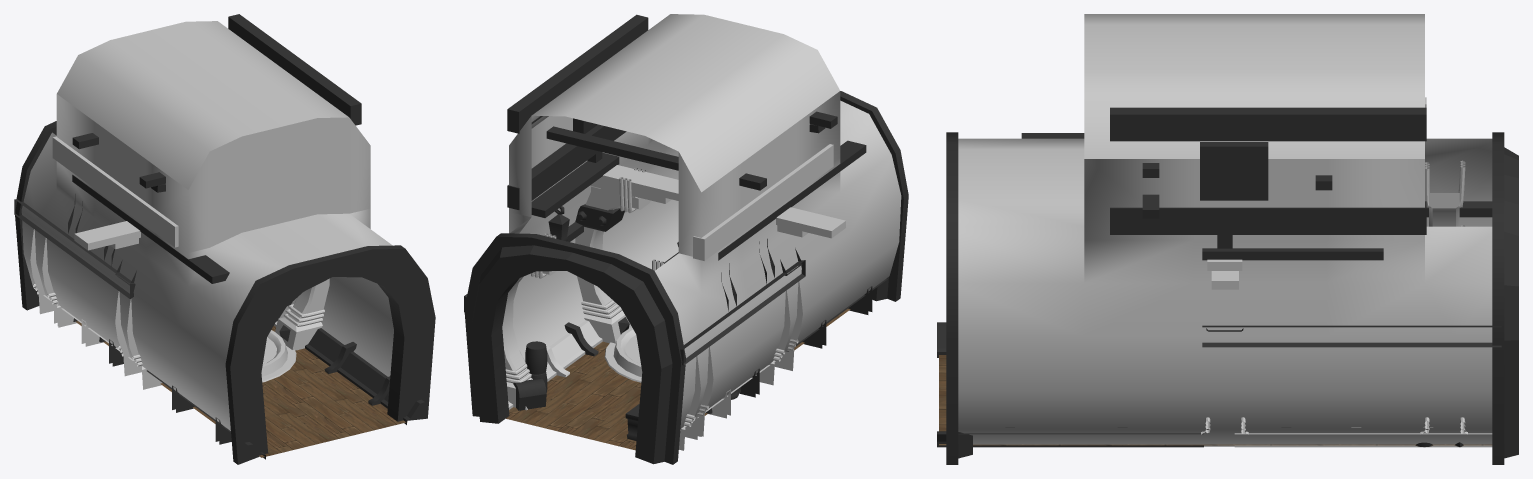
Rendered from br_env_A.FBX.
3 renders of one model, left to right at view 1: azimuth 30°, elevation 25°; view 2: azimuth 150°, elevation 25°; view 3: azimuth 270°, elevation 25°, orthographic. The views are drawn at different scales.
Parts seen in each view (by area): view 1: Group58866, Object133, Object132, Box303, Box323, Box302, Box298, Group58869, Box241, Box322, Box278, Box290 (+5 smaller); view 2: Group58866, Object133, Object132, Box303, Box323, Box302, Group58869, Box241, Box300, Box291, Box320, Box346 (+12 smaller); view 3: Group58866, Object133, Object132, Box302, Box300, Box301, Box322, Box320, Box298, Box303, Box280, Box346.
Boxes of the visible parts, left/top/right/bottom form: Group58866: left=15, top=121, right=435, bottom=464; Object133: left=57, top=21, right=348, bottom=189; Object132: left=56, top=94, right=370, bottom=252; Box303: left=76, top=321, right=407, bottom=457; Box323: left=52, top=136, right=178, bottom=247; Box302: left=228, top=14, right=361, bottom=125; Box298: left=146, top=328, right=424, bottom=459; Group58869: left=38, top=260, right=322, bottom=389; Box241: left=115, top=278, right=329, bottom=366; Box322: left=14, top=199, right=135, bottom=298; Box278: left=74, top=221, right=140, bottom=250; Box290: left=142, top=226, right=229, bottom=283; Group58866: left=464, top=91, right=908, bottom=464; Object133: left=531, top=14, right=840, bottom=192; Object132: left=509, top=91, right=840, bottom=256; Box303: left=506, top=308, right=850, bottom=450; Box323: left=693, top=144, right=833, bottom=260; Box302: left=507, top=14, right=648, bottom=133; Group58869: left=506, top=204, right=802, bottom=450; Box241: left=575, top=186, right=802, bottom=358; Box300: left=507, top=124, right=626, bottom=209; Box291: left=546, top=126, right=766, bottom=190; Box320: left=531, top=152, right=619, bottom=217; Box346: left=502, top=271, right=713, bottom=423; Group58866: left=946, top=132, right=1518, bottom=464; Object133: left=1084, top=14, right=1424, bottom=158; Object132: left=1084, top=159, right=1424, bottom=240; Box302: left=1110, top=107, right=1426, bottom=141; Box300: left=1110, top=201, right=1426, bottom=234; Box301: left=1200, top=142, right=1268, bottom=200; Box322: left=1202, top=201, right=1501, bottom=347; Box320: left=1202, top=248, right=1383, bottom=260; Box298: left=937, top=322, right=1203, bottom=447; Box303: left=939, top=355, right=1491, bottom=445; Box280: left=1234, top=433, right=1492, bottom=447; Box346: left=1429, top=193, right=1459, bottom=226.
Size of the model in its own units: 308 by 464 by 313.
